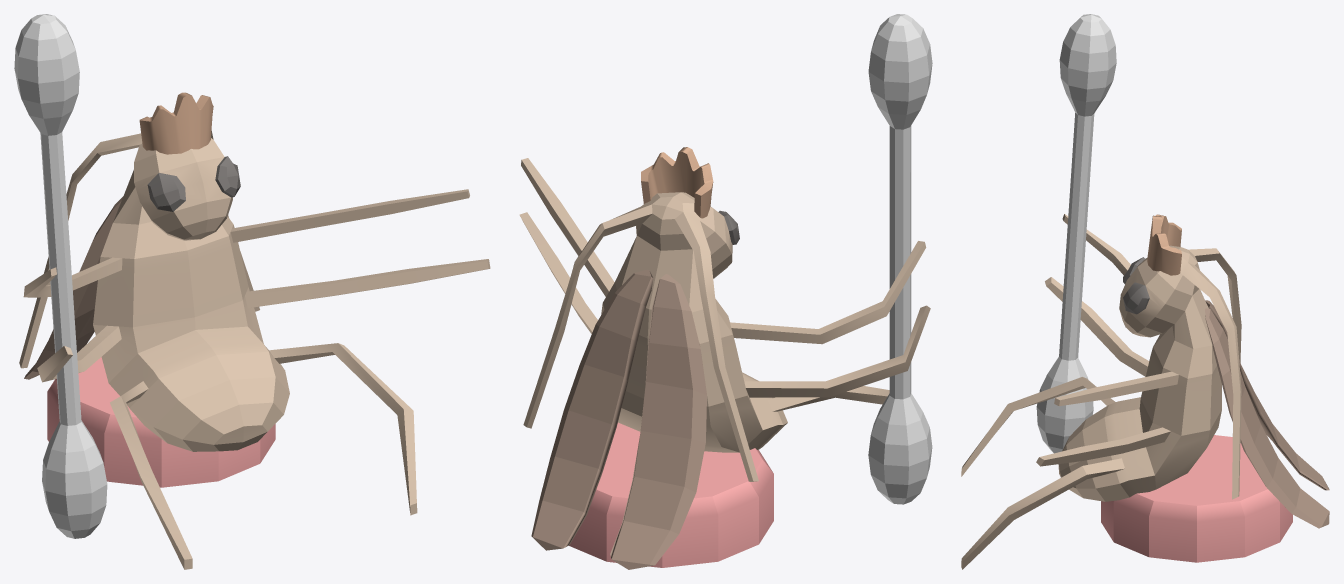
The model's file is KingOfTrash_Model_SC.fbx.
The picture shows the model from 3 angles, left to right: view 1: azimuth 30°, elevation 25°; view 2: azimuth 150°, elevation 25°; view 3: azimuth 270°, elevation 25°; orthographic projection. The views are drawn at different scales.
Parts seen in each view (by area): view 1: king, scepter, throne, crown, pSphere8; view 2: king, pSphere8, scepter, throne, crown; view 3: king, throne, scepter, pSphere8, crown.
Part boxes in pixels (x1,y1,x2,y2): king: (19, 130, 490, 569); scepter: (14, 14, 107, 538); throne: (47, 357, 275, 487); crown: (139, 92, 213, 154); pSphere8: (24, 196, 123, 379); king: (519, 158, 930, 481); pSphere8: (531, 269, 706, 569); scepter: (868, 14, 932, 504); throne: (569, 422, 773, 567); crown: (641, 147, 713, 218); king: (961, 214, 1241, 569); throne: (1101, 435, 1292, 562); scepter: (1036, 14, 1116, 453); pSphere8: (1205, 300, 1329, 528); crown: (1147, 214, 1181, 275).
Bounding box in the file's own units: 2.82 × 3.11 × 2.4.
